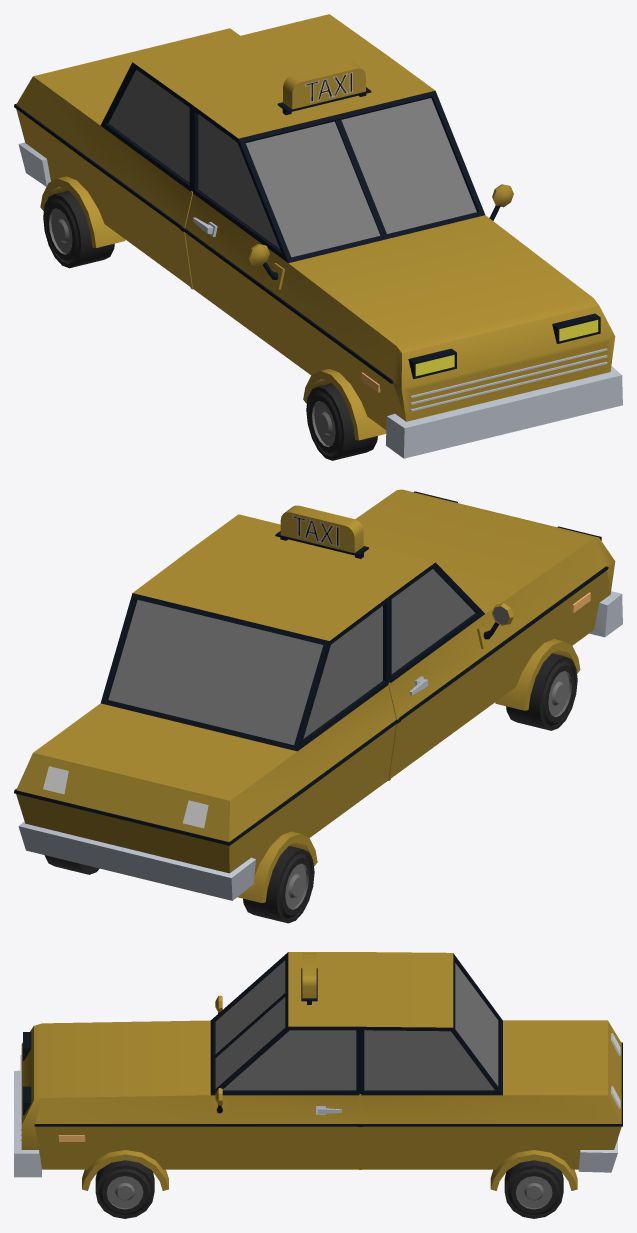
File: taxi.fbx
3 views of the same model, one above another, from view 1: azimuth 30°, elevation 25°; view 2: azimuth 150°, elevation 25°; view 3: azimuth 270°, elevation 25° (orthographic). The views are drawn at different scales.
Parts seen in each view (by area): view 1: taxi, rear-wheels, front-wheels; view 2: taxi, rear-wheels, front-wheels; view 3: taxi, front-wheels, rear-wheels.
Boxes of the visible parts, x1,y1,x2,y2 form: taxi: (14, 14, 622, 458); rear-wheels: (43, 190, 114, 268); front-wheels: (306, 383, 377, 460); taxi: (14, 489, 622, 902); rear-wheels: (44, 846, 314, 923); front-wheels: (506, 653, 577, 730); taxi: (14, 952, 622, 1190); front-wheels: (95, 1160, 154, 1218); rear-wheels: (504, 1160, 563, 1218).
Size of the model in its own units: 1.71 by 1.67 by 4.39.
